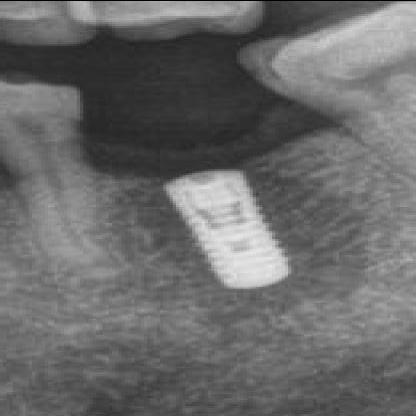ITI: (135, 160, 315, 298)
